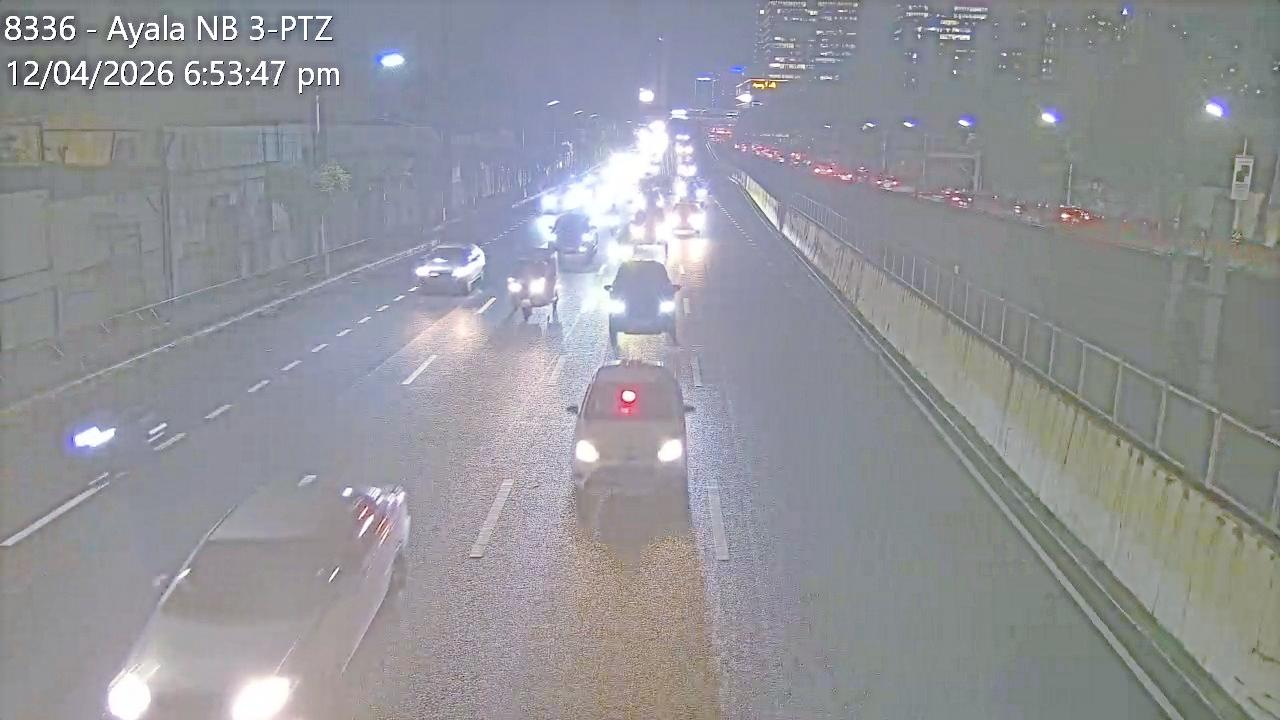Car: (107, 476, 408, 716), (567, 356, 698, 522), (603, 248, 686, 348), (413, 242, 485, 296), (505, 252, 560, 320), (546, 209, 601, 260), (630, 204, 670, 254), (670, 198, 705, 236)
Motor: (68, 374, 170, 490)
Not Accident: (74, 376, 407, 716), (510, 211, 600, 321)
